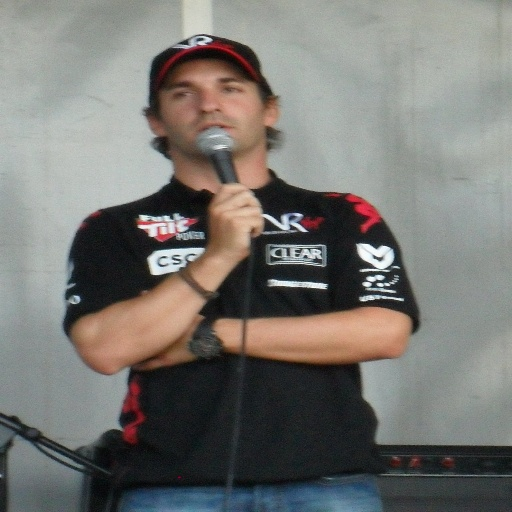hand: (190, 171, 275, 277), (132, 285, 212, 372)
